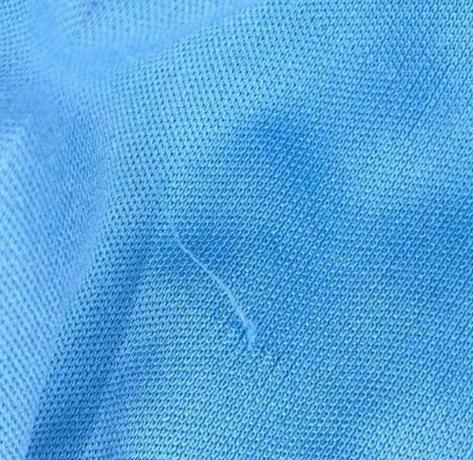snag: (169, 220, 268, 366)
